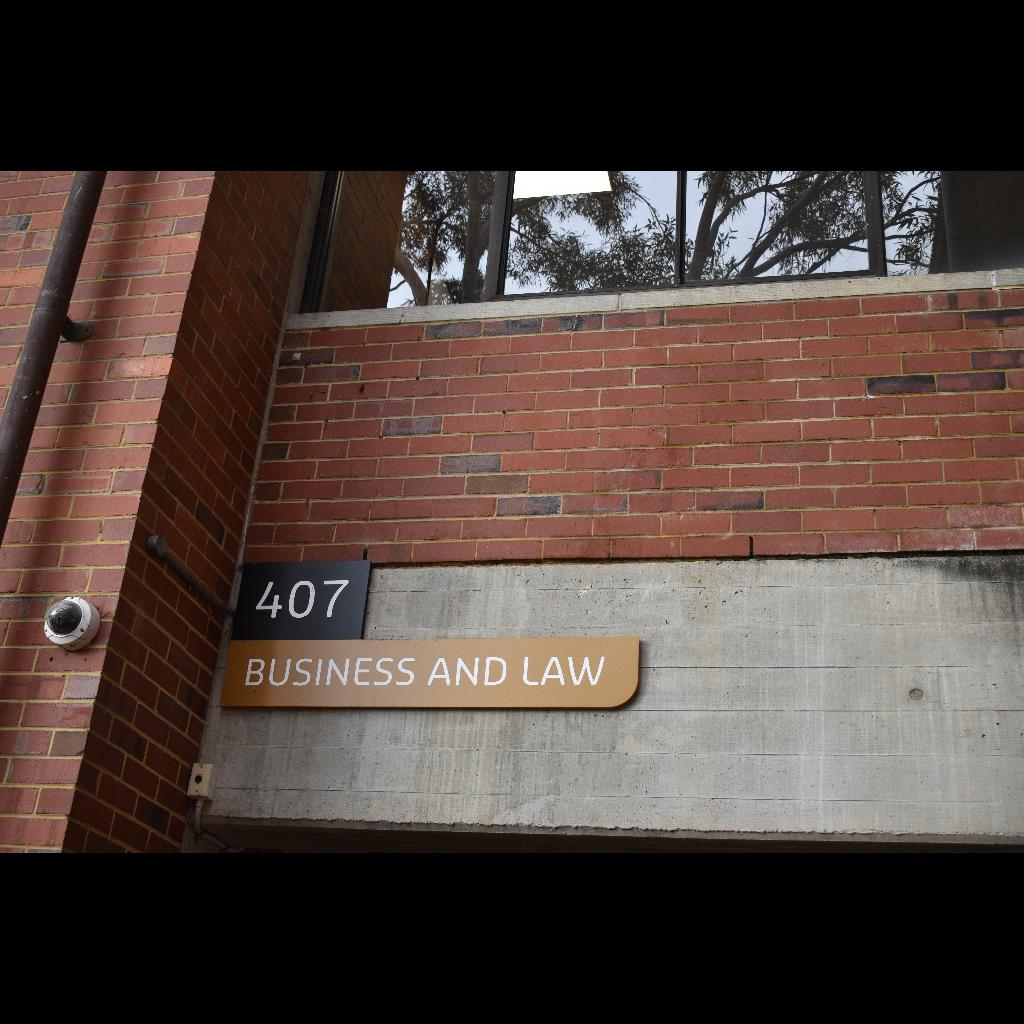BuildingCodes: (250, 574, 352, 622)
